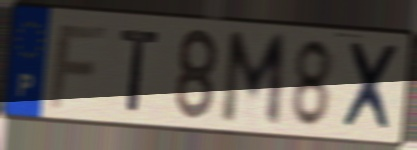8: (174, 26, 219, 124), (291, 36, 336, 131)
F: (47, 23, 110, 112)
M: (218, 29, 290, 132)
T: (117, 27, 164, 116)
X: (339, 39, 402, 137)
